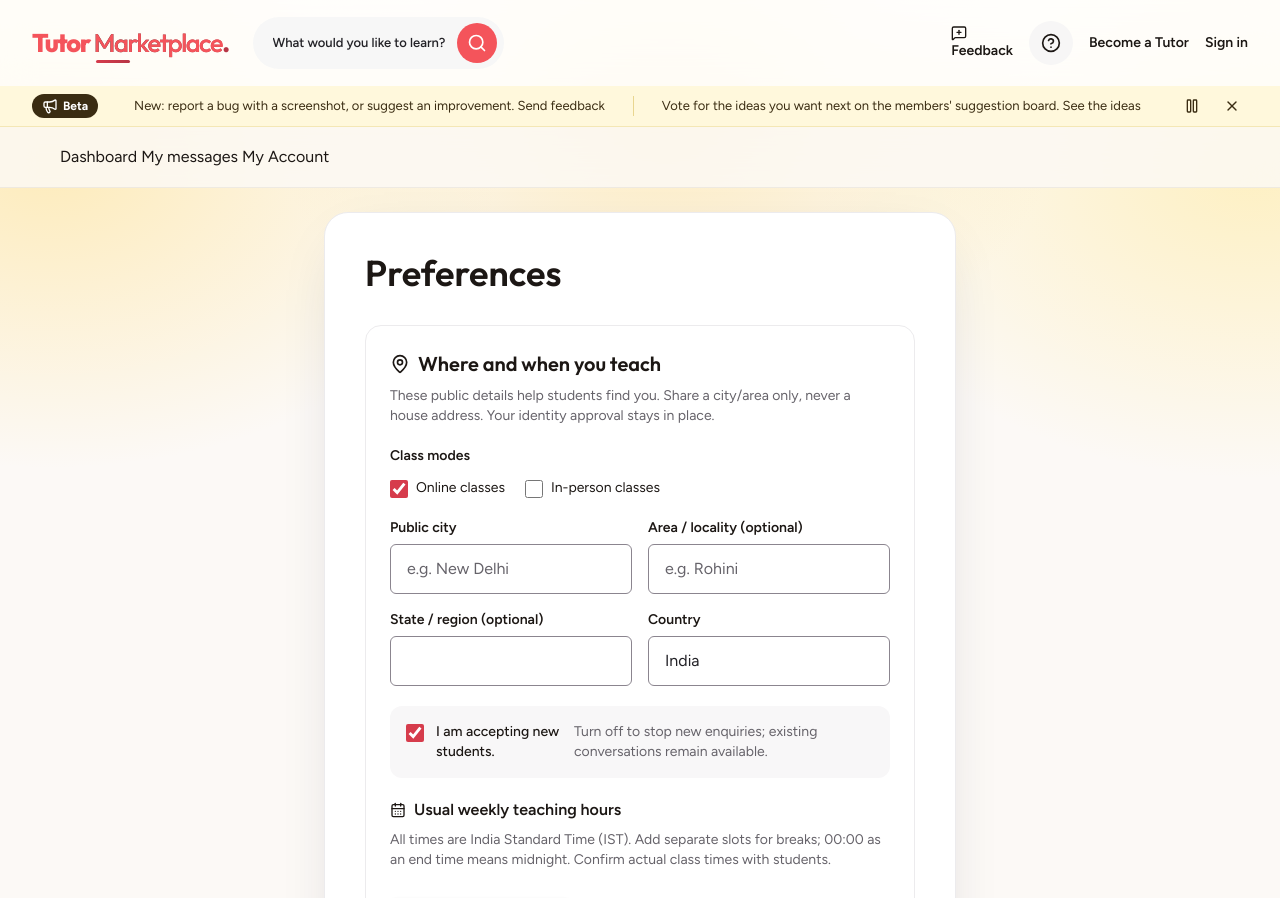
Scenario: saves city, mode, accepting status and weekly hours then shows the saved result
Type "Mumbai" into the field labelled "Public city".
click(511, 569); type("Mumbai")  # box [390,544,632,594]
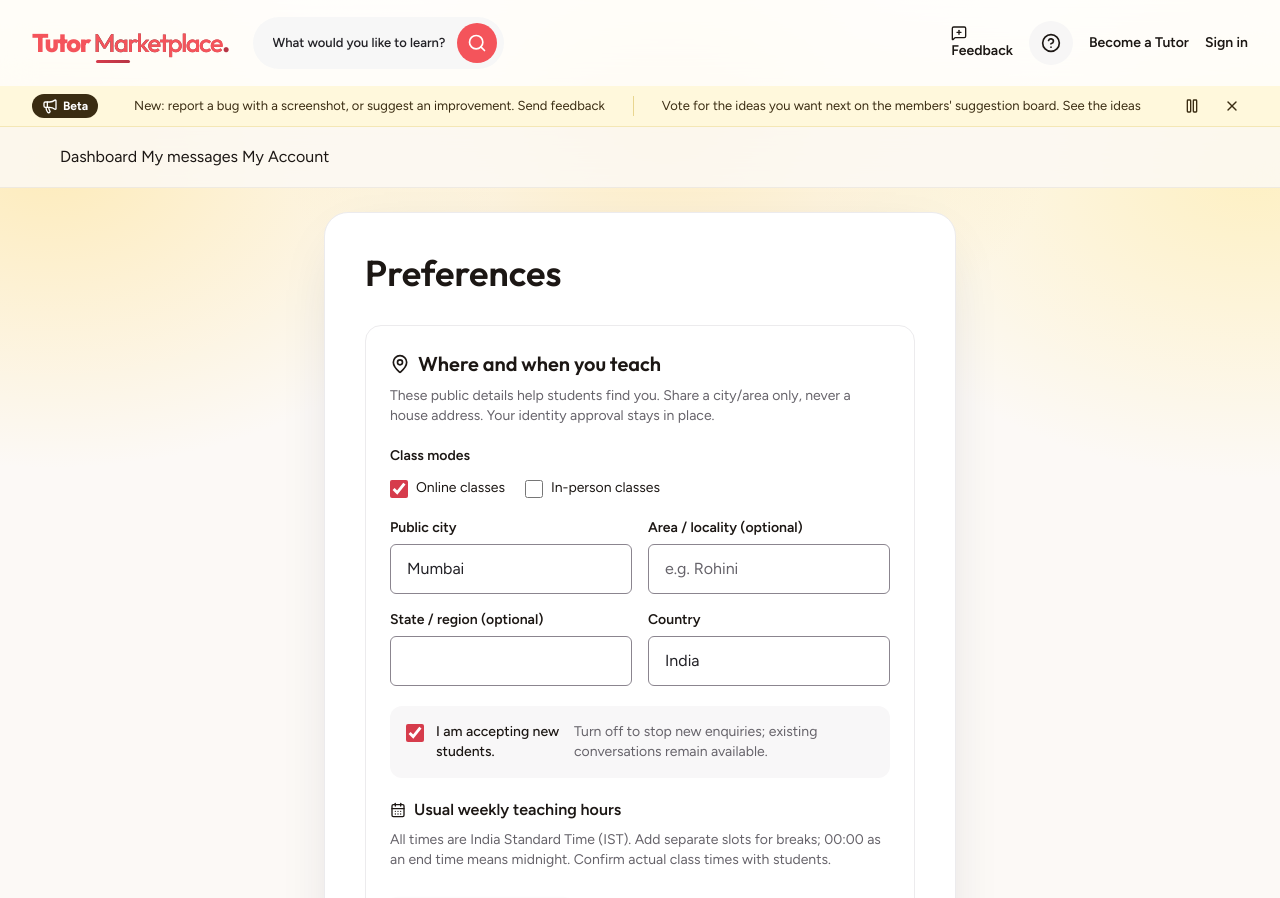
Click the checkbox labelled "In-person classes".
click(534, 489)  # box [525,480,543,498]
(page scrolled)
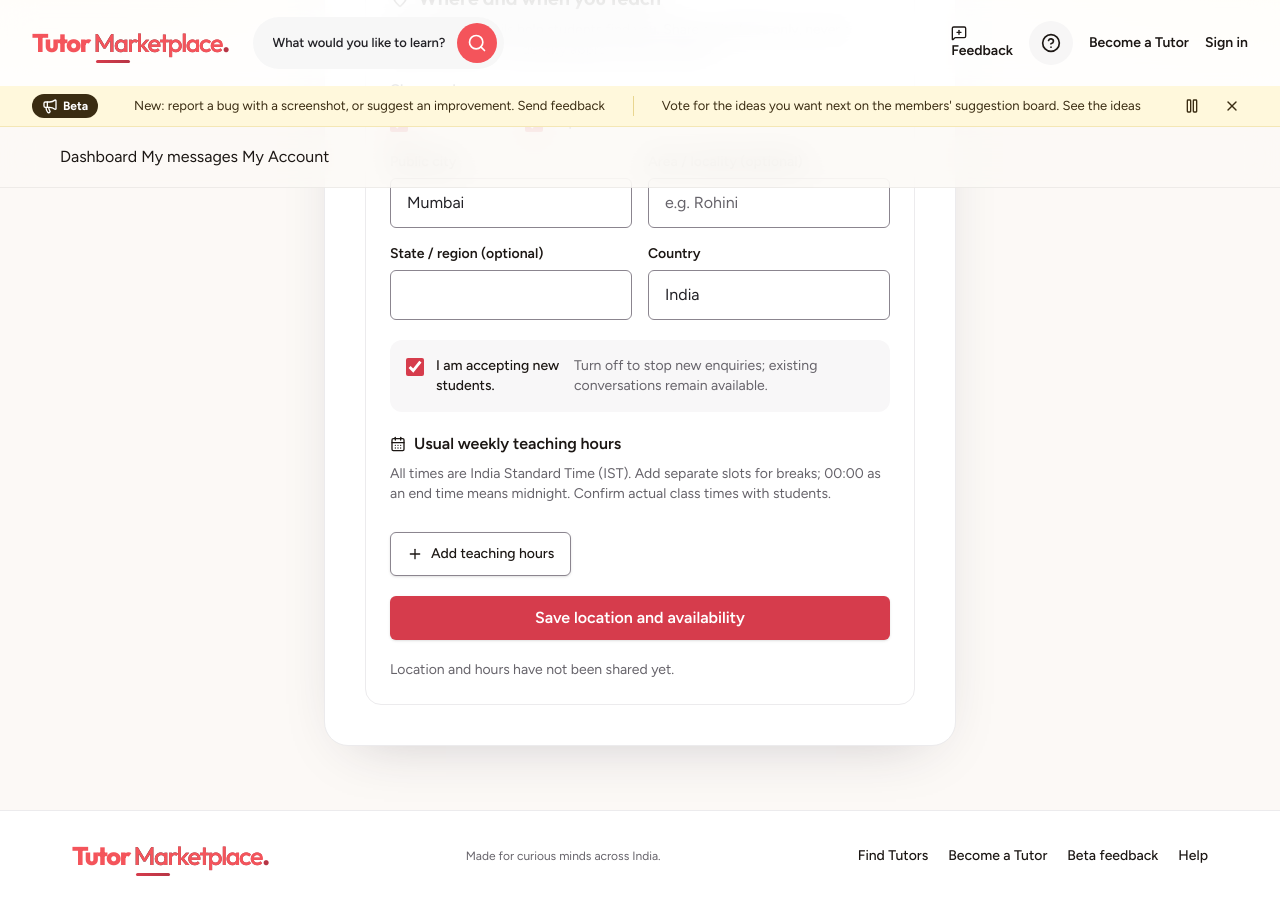
Click the button "Add teaching hours".
click(481, 554)  # box [390,532,571,576]
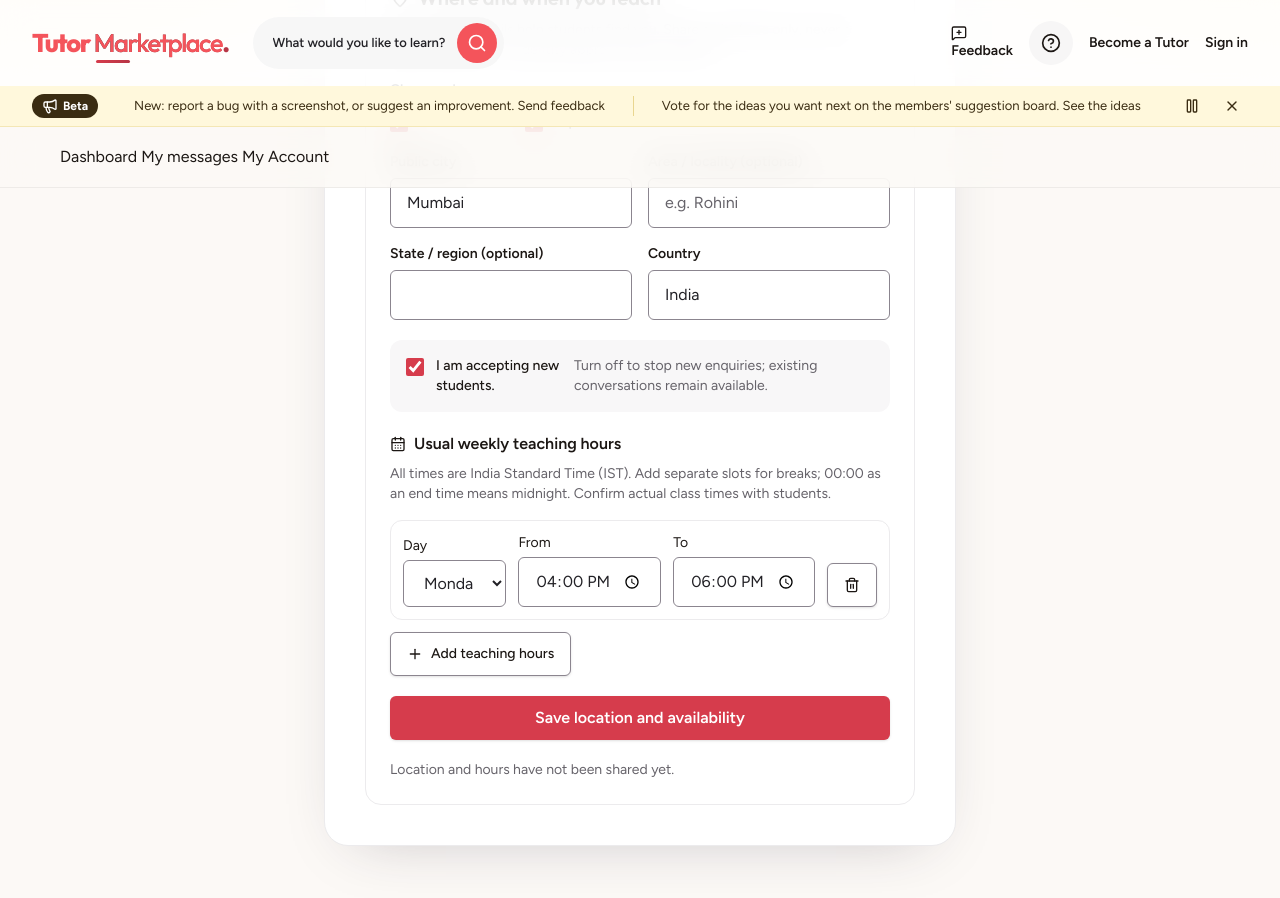
Replace the text in the time field named "Start time 1" with "17:00" at (590, 582), box [518,557,661,607]
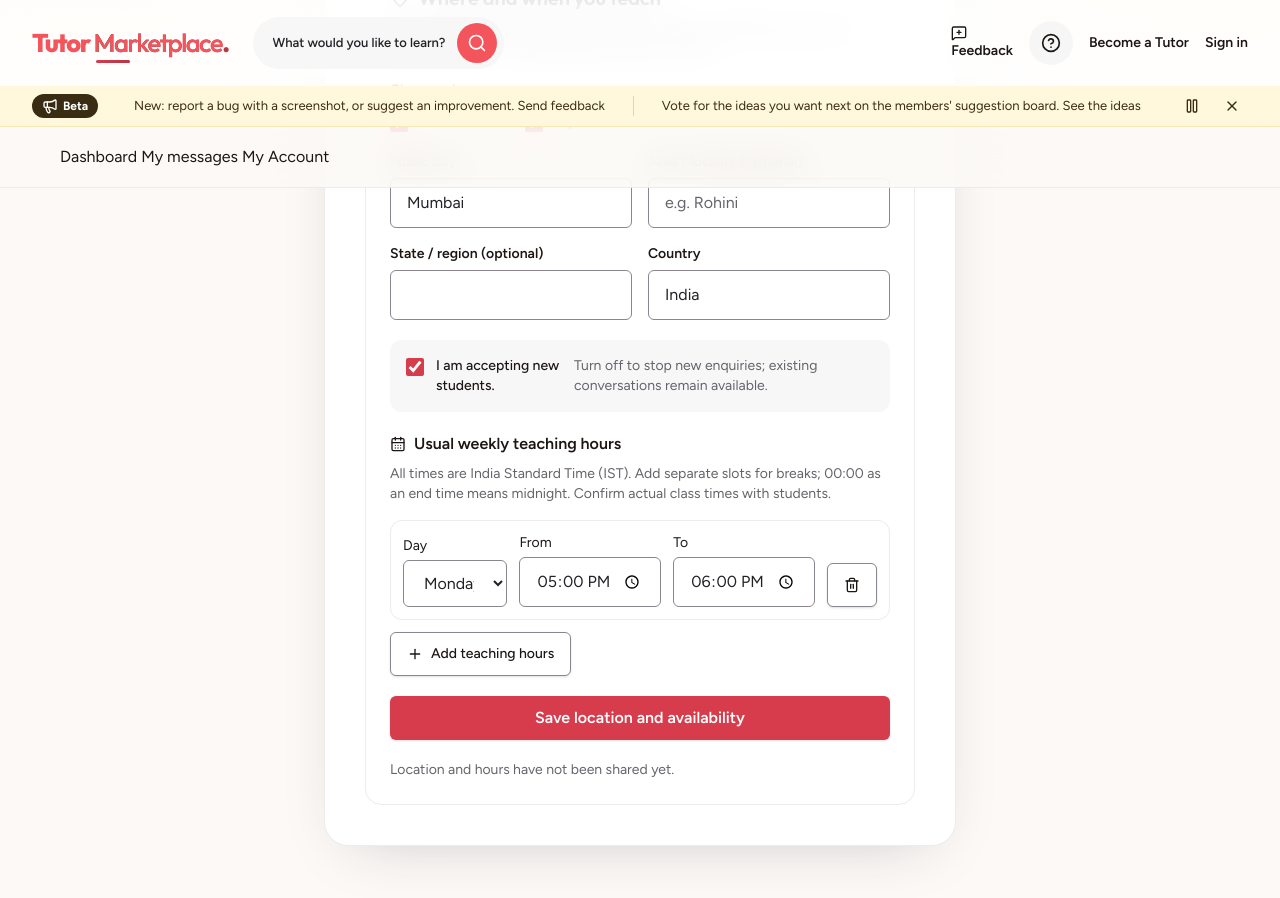
Click the button "Save location and availability".
click(640, 718)  # box [390,696,890,740]
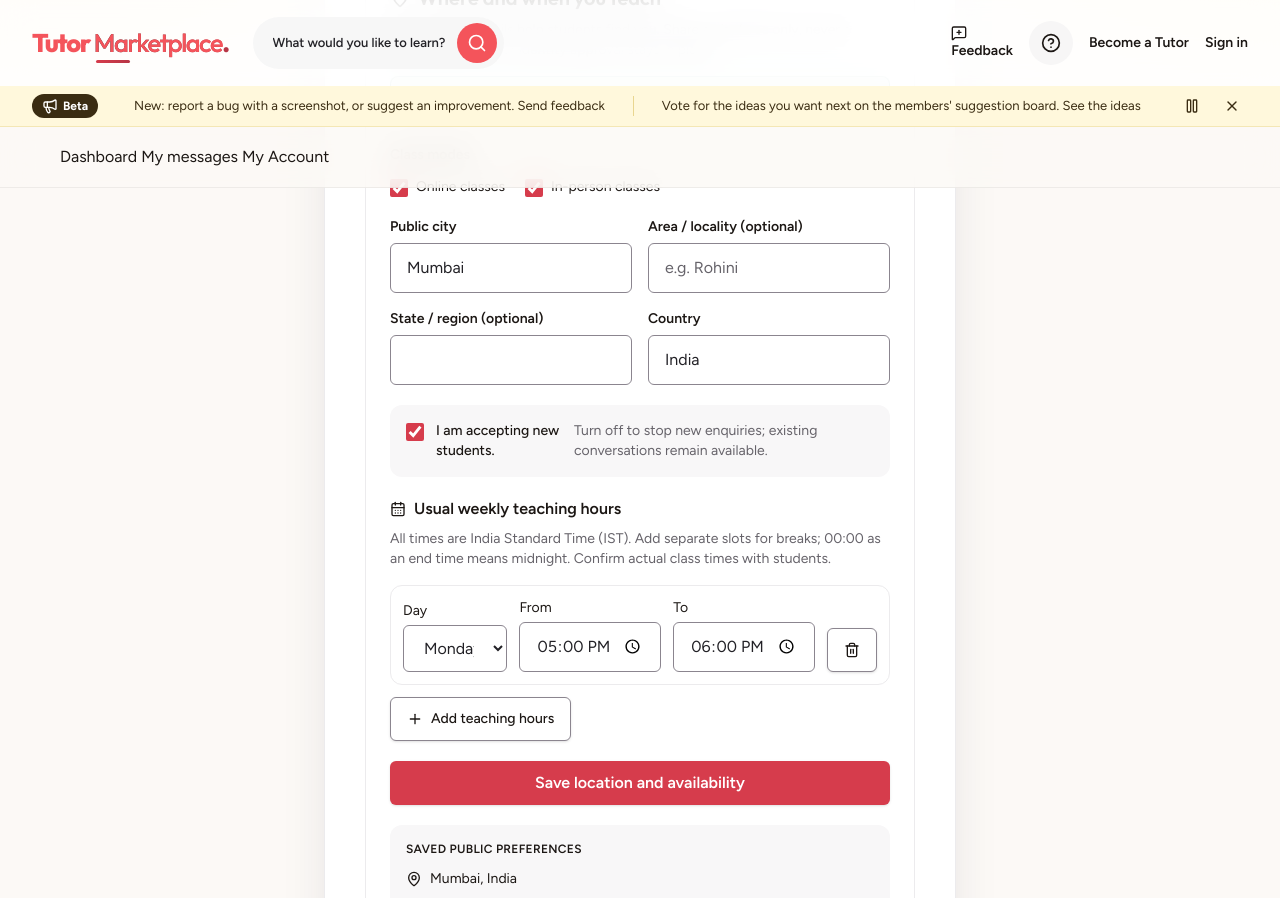
Expected: the text "Location and availability saved." is shown, [390,76,890,125]
Expected: the text "Saved public preferences" is shown, [406,842,582,856]
